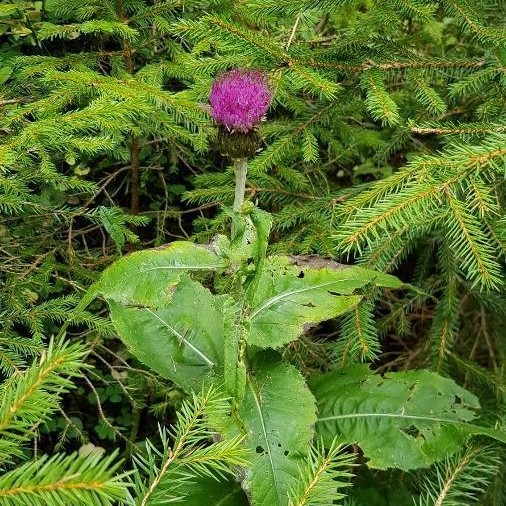obstacle: (130, 77, 383, 488), (325, 101, 487, 308), (12, 67, 215, 165)
